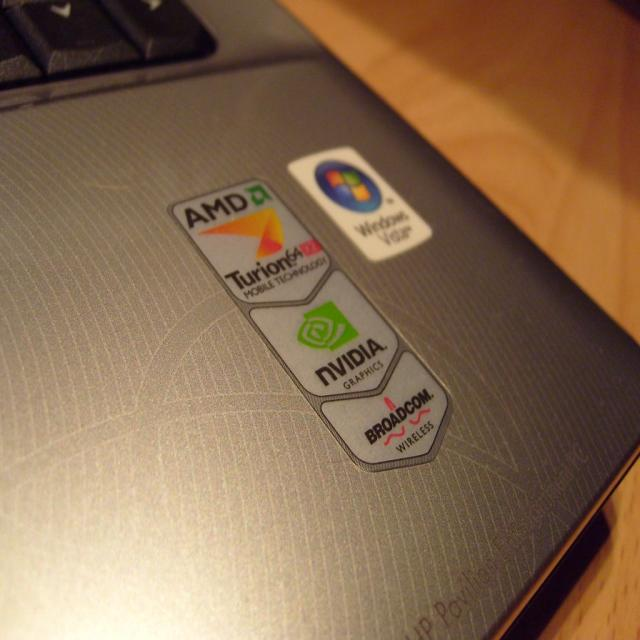nvidia: (298, 300, 358, 354)
